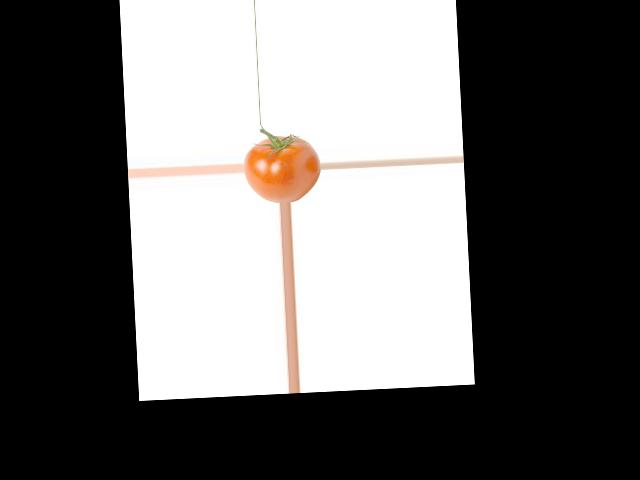tomato: (242, 133, 322, 203)
